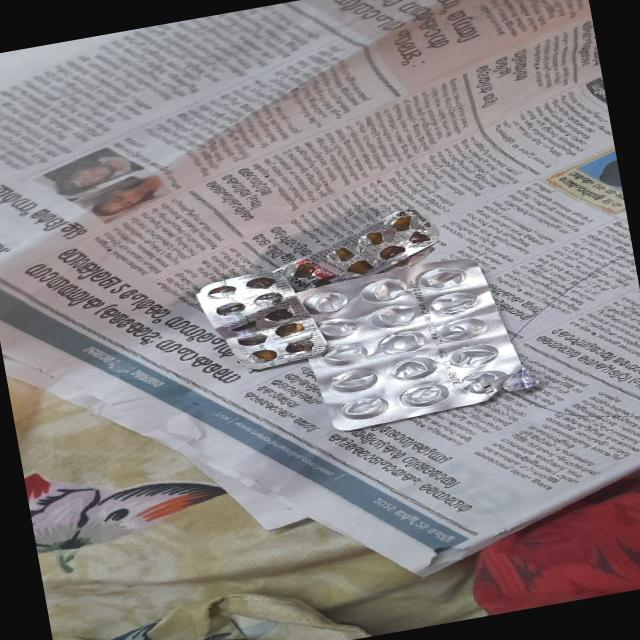Blister_Packs - Non Recyclable: (154, 184, 563, 472)
